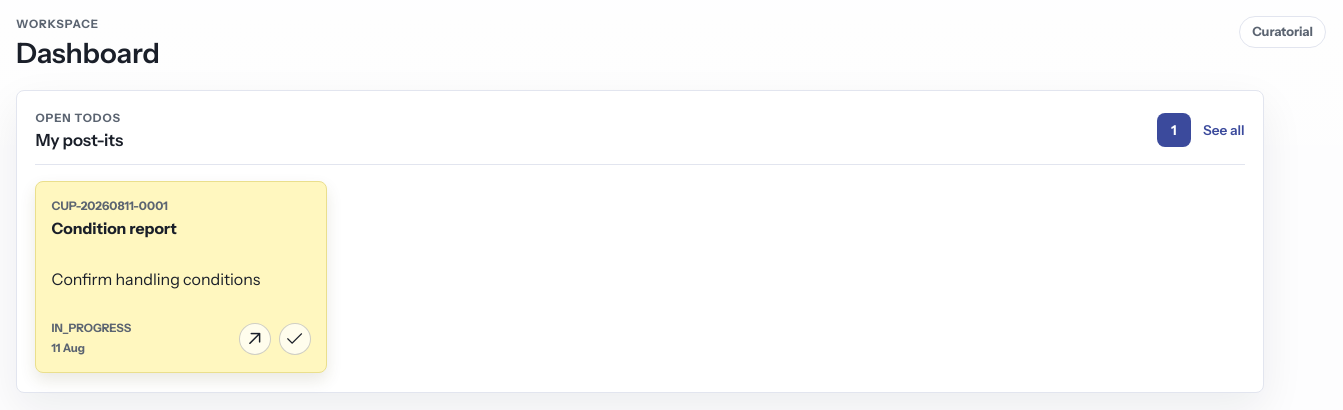
DashboardComponent › removes a post-it after completing it from the dashboard
Step 1. Click the button named "Complete TODO item" → (295, 339), box [279,323,311,355]
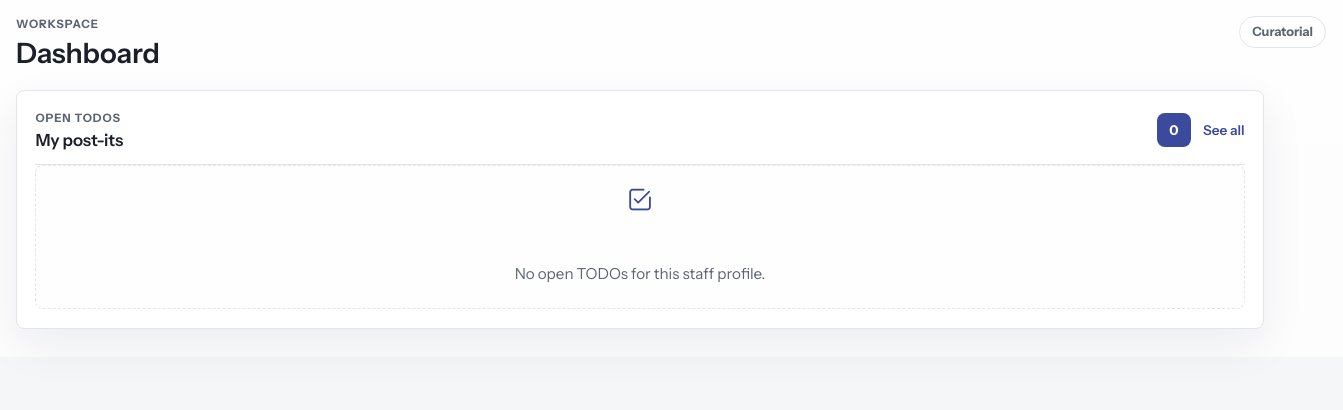
Expected: the text "No open TODOs for this staff profile." is shown, [35,165,1245,309]
